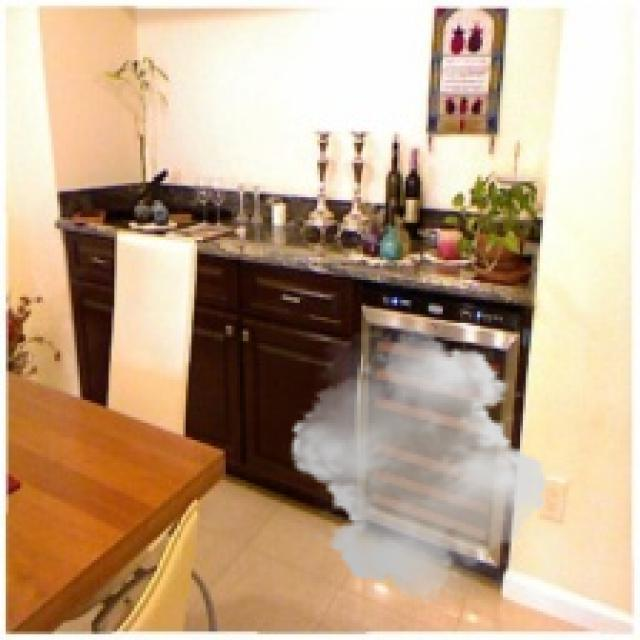Smoke: (280, 326, 557, 606)
